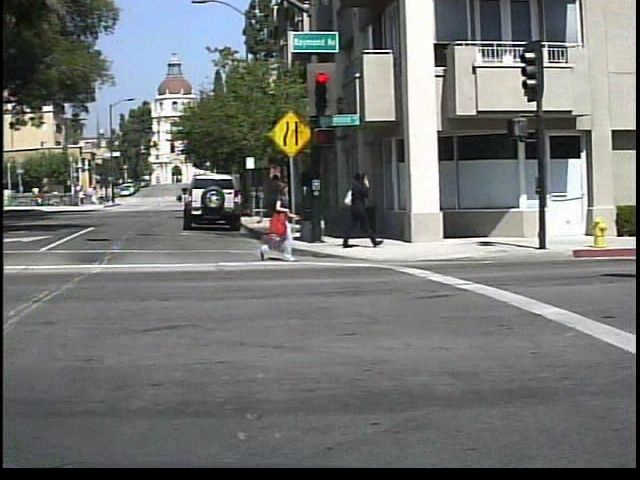person: (258, 176, 309, 264), (344, 165, 385, 251)
